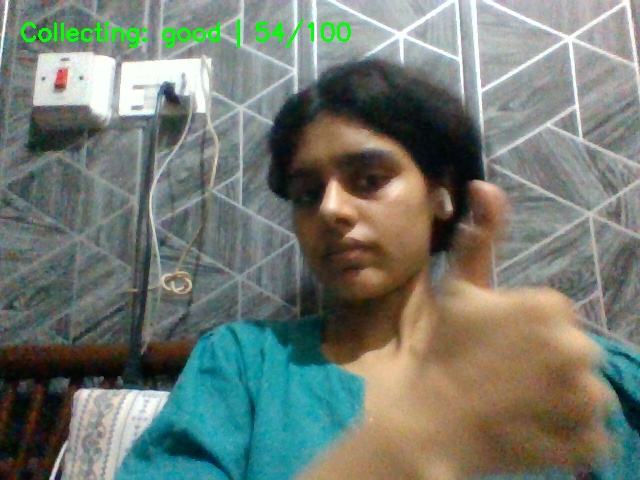good: (373, 170, 639, 480)
